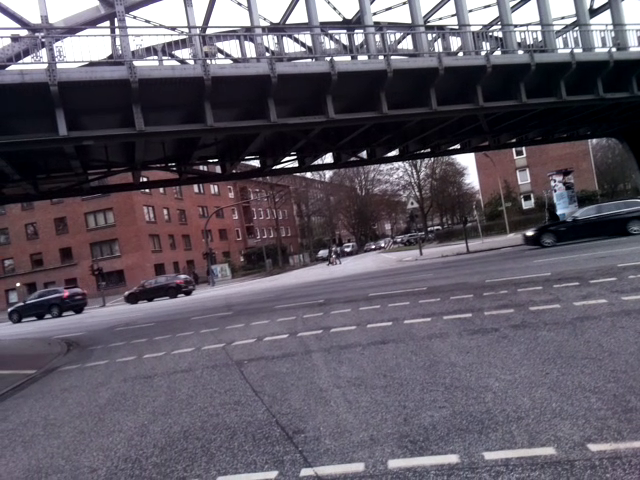car: (523, 198, 640, 244), (6, 286, 94, 320), (114, 272, 194, 301)
